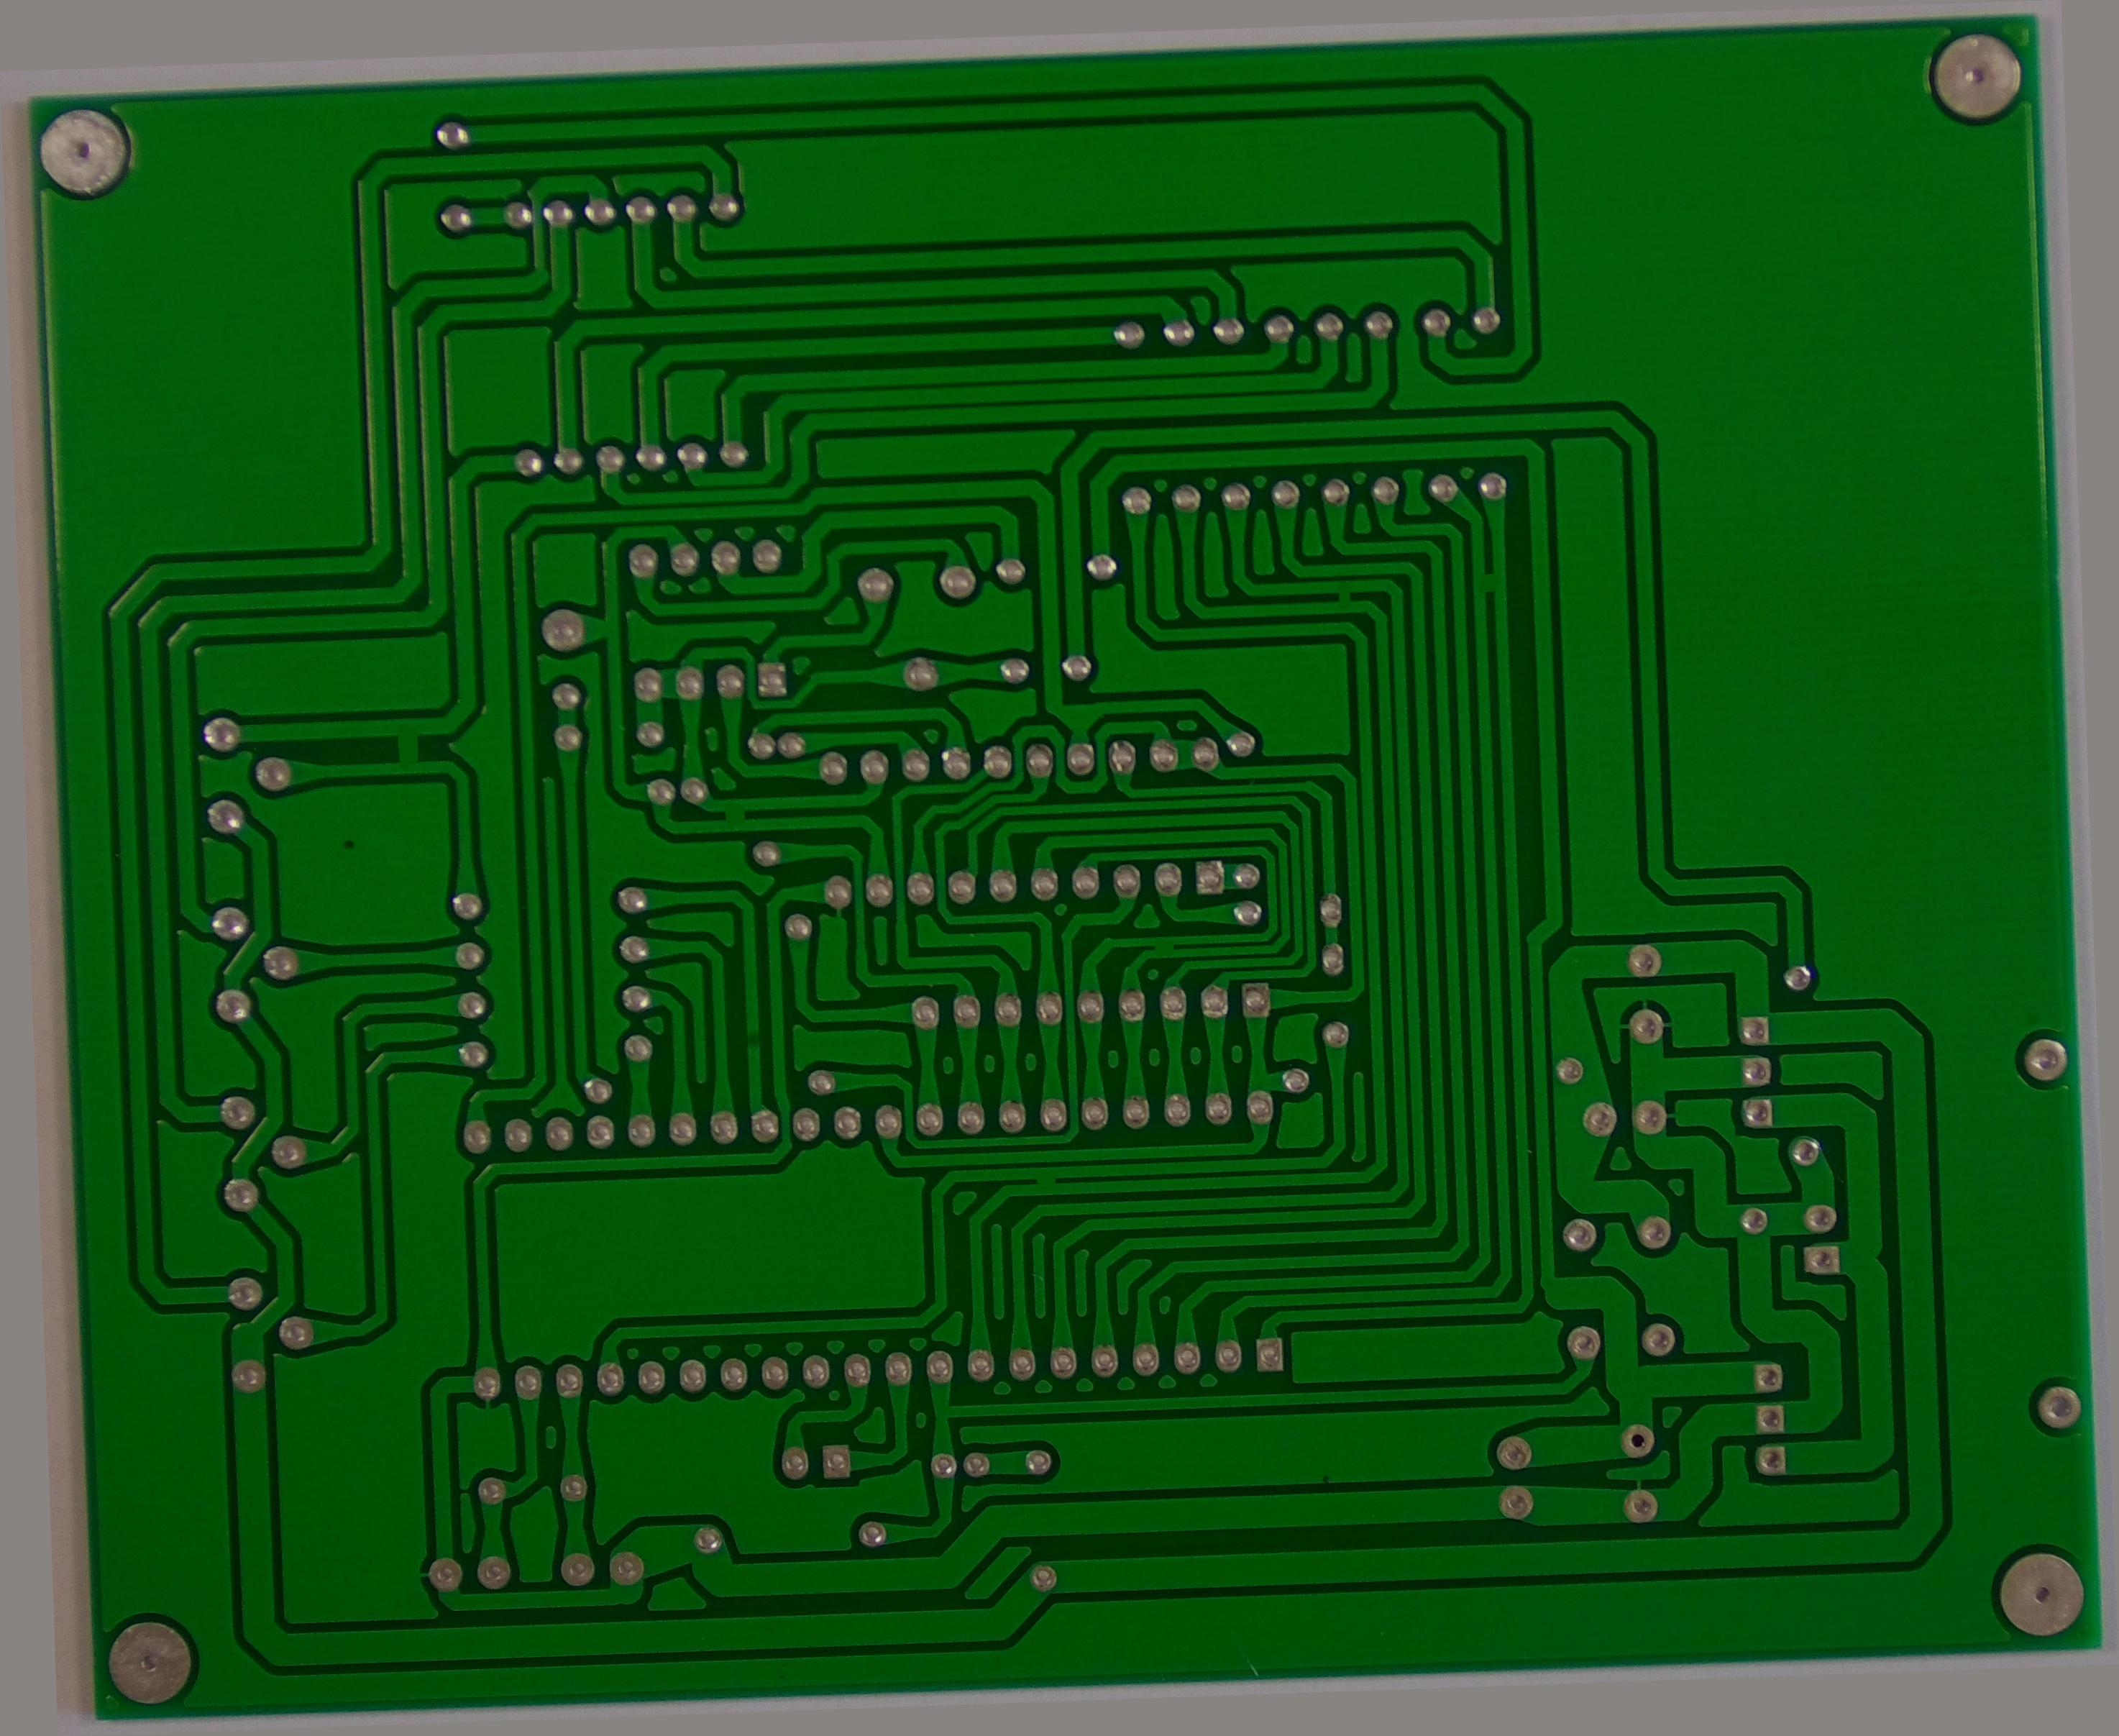short: (371, 718, 436, 778), (711, 794, 757, 836), (1466, 565, 1514, 600), (1323, 577, 1364, 616), (1026, 1160, 1065, 1199)
